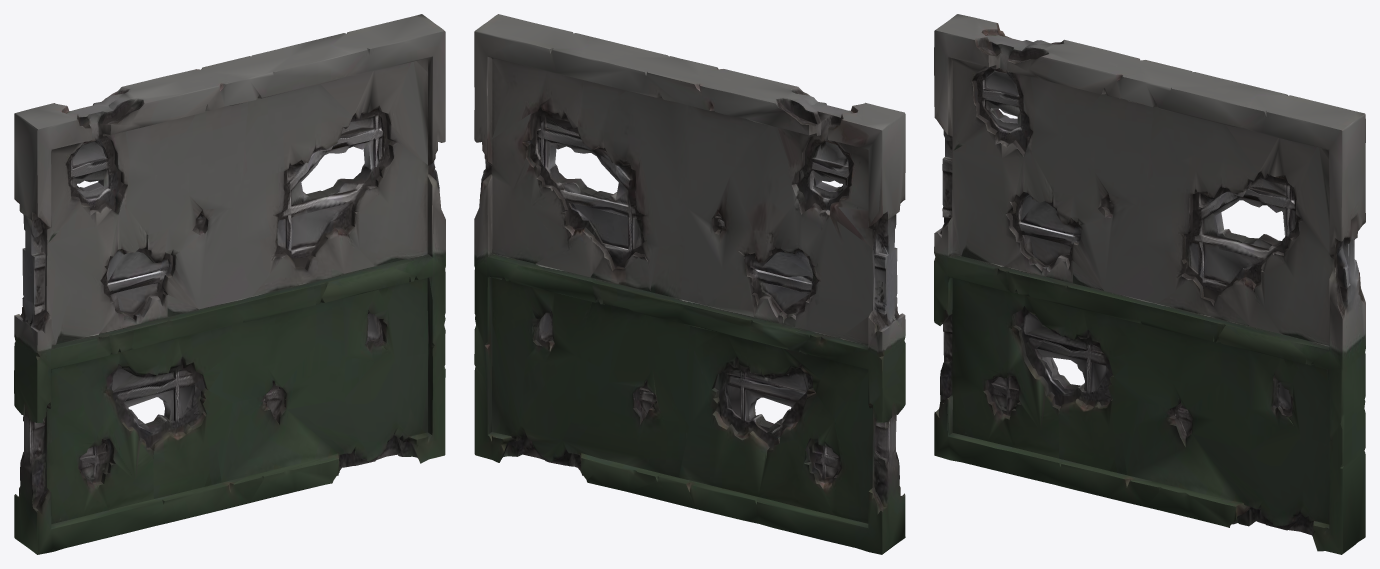
Rendered from finish_metal_ruined_idle.glb.
The picture shows the model from 3 angles, left to right: view 1: azimuth 30°, elevation 25°; view 2: azimuth 150°, elevation 25°; view 3: azimuth 330°, elevation 25°; orthographic projection.
Parts seen in each view (by area): view 1: tripo_node_c9f46dce-1fcd-4c3f-b4b7-d61f1c562e41; view 2: tripo_node_c9f46dce-1fcd-4c3f-b4b7-d61f1c562e41; view 3: tripo_node_c9f46dce-1fcd-4c3f-b4b7-d61f1c562e41.
Boxes of the visible parts, bbox=[...] form: tripo_node_c9f46dce-1fcd-4c3f-b4b7-d61f1c562e41: bbox=[14, 14, 445, 554]; tripo_node_c9f46dce-1fcd-4c3f-b4b7-d61f1c562e41: bbox=[474, 14, 905, 554]; tripo_node_c9f46dce-1fcd-4c3f-b4b7-d61f1c562e41: bbox=[934, 14, 1365, 554].
Bounding box in the file's own units: 0.9997 × 0.9999 × 0.1.
Materials: 1 (1 with a texture image).
